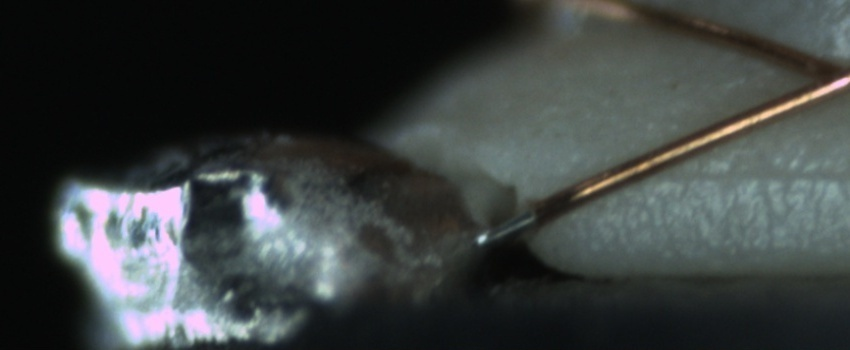CL: (771, 35, 848, 110)
DL: (640, 141, 850, 204)
TS: (483, 208, 538, 244)
